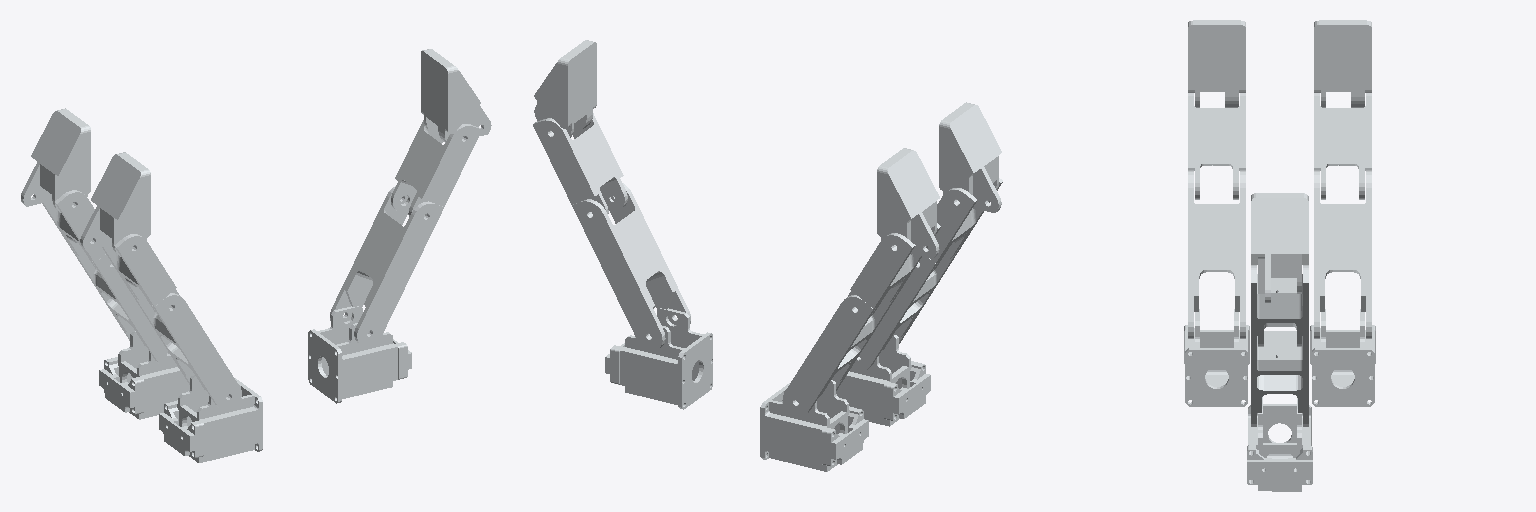
--- Render facts (derived) ---
The picture shows the robot from 3 angles, left to right: view 1: azimuth 30°, elevation 25°; view 2: azimuth 150°, elevation 25°; view 3: azimuth 270°, elevation 25°; orthographic projection.
Model 3fgripper with 16 links and 15 joints (11 continuous, 4 fixed), rooted at world, posed all joints at 0.
Links seen in each view (by area): view 1: m_Link_1, m_base_link, r_base_link, r_Link_1, r_Link_3, l_Link_3, m_Link_2, l_base_link, m_Link_3, l_Link_1, r_Link_2, l_Link_2; view 2: m_Link_1, m_base_link, l_base_link, l_Link_1, m_Link_2, r_Link_3, l_Link_3, r_base_link, m_Link_3, r_Link_1, l_Link_2, r_Link_2; view 3: r_Link_1, l_Link_1, m_Link_3, r_base_link, l_base_link, m_base_link, r_Link_3, l_Link_3, m_Link_1, r_Link_2, l_Link_2, m_Link_2.
Boxes of the visible links, <box> form: m_Link_1: <box>330,186,443,346</box>; m_base_link: <box>308,306,411,403</box>; r_base_link: <box>159,375,262,462</box>; r_Link_1: <box>127,287,241,410</box>; r_Link_3: <box>80,152,150,256</box>; l_Link_3: <box>21,108,90,212</box>; m_Link_2: <box>391,120,481,216</box>; l_base_link: <box>99,331,189,419</box>; m_Link_3: <box>421,49,491,142</box>; l_Link_1: <box>68,244,175,366</box>; r_Link_2: <box>102,234,179,314</box>; l_Link_2: <box>42,190,111,271</box>; m_Link_1: <box>572,183,690,350</box>; m_base_link: <box>605,308,712,409</box>; l_base_link: <box>760,380,868,471</box>; l_Link_1: <box>782,289,900,416</box>; m_Link_2: <box>533,113,627,215</box>; r_Link_3: <box>939,102,1001,212</box>; l_Link_3: <box>877,148,939,258</box>; r_base_link: <box>836,335,930,426</box>; m_Link_3: <box>534,40,596,137</box>; r_Link_1: <box>852,243,963,371</box>; l_Link_2: <box>848,223,940,316</box>; r_Link_2: <box>918,178,1002,271</box>; r_Link_1: <box>1188,170,1245,338</box>; l_Link_1: <box>1314,170,1371,338</box>; m_Link_3: <box>1251,193,1308,302</box>; r_base_link: <box>1184,309,1249,406</box>; l_base_link: <box>1310,309,1375,406</box>; m_base_link: <box>1247,397,1312,491</box>; r_Link_3: <box>1188,20,1245,107</box>; l_Link_3: <box>1314,20,1371,107</box>; m_Link_1: <box>1251,331,1308,426</box>; r_Link_2: <box>1188,93,1245,199</box>; l_Link_2: <box>1314,93,1371,199</box>; m_Link_2: <box>1251,265,1308,346</box>.
Size in the robot's own frame: 0.2148 by 0.079 by 0.1478 metres.
12 mesh visuals loaded from 7 distinct referenced files (4 binary STL); not drawn: 3 (reference not matched to a file when rendering).

The robot description file, URDF, robot "3fgripper":
<?xml version="1.0" ?>
<!-- =================================================================================== -->
<!-- |    This document was autogenerated by xacro from [local-path]/finger/src/gripper/urdf/3fgripper.xacro | -->
<!-- |    EDITING THIS FILE BY HAND IS NOT RECOMMENDED                                 | -->
<!-- =================================================================================== -->
<robot name="3fgripper" xmlns:xacro="http://www.ros.org/wiki/xacro">
  <gazebo>
    <plugin filename="libgazebo_ros_control.so" name="gazebo_ros_control">
      <robotNamespace>/fingertest</robotNamespace>
      <robotSimType>gazebo_ros_control/DefaultRobotHWSim</robotSimType>
      <legacyModeNS>true</legacyModeNS>
    </plugin>
  </gazebo>
  <!-- <gazebo>
  <plugin name="finger_gazebo_ros_bumper_controller" filename="libgazebo_ros_bumper.so">
    <alwaysOn>true</alwaysOn>
    <updateRate>10</updateRate>
    <bumperTopicName>finger_bumper</bumperTopicName>
    <frameName>world</frameName>
  </plugin>
</gazebo> -->
  &gt; 
  
  <gazebo>
    <plugin filename="libgazebo_ros_control.so" name="gazebo_ros_control">
      <robotNamespace>/3fgripper</robotNamespace>
      <robotSimType>gazebo_ros_control/DefaultRobotHWSim</robotSimType>
      <legacyModeNS>true</legacyModeNS>
    </plugin>
  </gazebo>
  <link name="world"/>
  <link name="gripper_base_link">
    <inertial>
      <origin rpy="0 0 0" xyz="-0.0019571 1.9748E-05 0.052522"/>
      <mass value="0.088404"/>
      <inertia ixx="0.1" ixy="1.4704E-08" ixz="-2.4848E-07" iyy="0.1" iyz="3.2395E-09" izz="0.1"/>
    </inertial>
    <visual>
      <origin rpy="0 0 0" xyz="0 0 0"/>
      <geometry>
        <mesh filename="package://gripper_base/meshes/gripper_base_link.STL"/>
      </geometry>
      <material name="">
        <color rgba="0.79216 0.81961 0.93333 1"/>
      </material>
    </visual>
    <collision>
      <origin rpy="0 0 0" xyz="0 0 0"/>
      <geometry>
        <mesh filename="package://gripper_base/meshes/gripper_base_link.STL"/>
      </geometry>
    </collision>
  </link>
  <link name="l_finger_link">
    <inertial>
      <origin rpy="0 0 0" xyz="-0.0053798 -5.6205E-16 0.012857"/>
      <mass value="0.014765"/>
      <inertia ixx="0.1" ixy="-1.2909E-22" ixz="-3.1553E-22" iyy="0.1" iyz="1.1779E-23" izz="0.1"/>
    </inertial>
    <visual>
      <origin rpy="0 0 0" xyz="0 0 0"/>
      <geometry>
        <mesh filename="package://gripper_base/meshes/l_finger_link.STL"/>
      </geometry>
      <material name="">
        <color rgba="0.79216 0.81961 0.93333 1"/>
      </material>
    </visual>
    <collision>
      <origin rpy="0 0 0" xyz="0 0 0"/>
      <geometry>
        <mesh filename="package://gripper_base/meshes/l_finger_link.STL"/>
      </geometry>
    </collision>
  </link>
  <!-- <link name="world"/> -->
  <joint name="fixed123" type="fixed">
    <origin rpy="0 0 0" xyz="0 0 0"/>
    <parent link="world"/>
    <child link="gripper_base_link"/>
    <axis xyz="0 0 0"/>
  </joint>
  <joint name="l_finger_joint" type="continuous">
    <origin rpy="0 0 0" xyz="0 0.026 0.0565"/>
    <parent link="gripper_base_link"/>
    <child link="l_finger_link"/>
    <axis xyz="0 0 -1"/>
  </joint>
  <link name="r_finger_link">
    <inertial>
      <origin rpy="0 0 0" xyz="-0.0053798 -8.1532E-16 0.012857"/>
      <mass value="0.014765"/>
      <inertia ixx="0.1" ixy="1.8121E-21" ixz="-1.2879E-22" iyy="0.1" iyz="1.4405E-22" izz="0.1"/>
    </inertial>
    <visual>
      <origin rpy="0 0 0" xyz="0 0 0"/>
      <geometry>
        <mesh filename="package://gripper_base/meshes/r_finger_link.STL"/>
      </geometry>
      <material name="">
        <color rgba="0.79216 0.81961 0.93333 1"/>
      </material>
    </visual>
    <collision>
      <origin rpy="0 0 0" xyz="0 0 0"/>
      <geometry>
        <mesh filename="package://gripper_base/meshes/r_finger_link.STL"/>
      </geometry>
    </collision>
  </link>
  <joint name="r_finger_joint" type="continuous">
    <origin rpy="0 0 0" xyz="0 -0.026 0.0565"/>
    <parent link="gripper_base_link"/>
    <child link="r_finger_link"/>
    <!-- <axis
      xyz="0 0 -1" /> -->
    <axis xyz="0 0 1"/>
  </joint>
  <transmission name="tran1">
    <type>transmission_interface/SimpleTransmission</type>
    <joint name="l_finger_joint">
      <hardwareInterface>hardware_interface/EffortJointInterface</hardwareInterface>
    </joint>
    <actuator name="motor1">
      <hardwareInterface>hardware_interface/EffortJointInterface</hardwareInterface>
      <mechanicalReduction>1</mechanicalReduction>
    </actuator>
  </transmission>
  <transmission name="tran2">
    <type>transmission_interface/SimpleTransmission</type>
    <joint name="r_finger_joint">
      <hardwareInterface>hardware_interface/EffortJointInterface</hardwareInterface>
    </joint>
    <actuator name="motor2">
      <hardwareInterface>hardware_interface/EffortJointInterface</hardwareInterface>
      <mechanicalReduction>1</mechanicalReduction>
    </actuator>
  </transmission>
  <gazebo reference="gripper_base_link">
    <material>Gazebo/Gray</material>
    <mu1 value="0.2"/>
    <mu2 value="0.2"/>
    <selfCollide>false</selfCollide>
  </gazebo>
  <gazebo reference="l_finger_link">
    <material>Gazebo/Gray</material>
    <mu1 value="0.2"/>
    <mu2 value="0.2"/>
    <selfCollide>false</selfCollide>
  </gazebo>
  <gazebo reference="r_finger_link">
    <material>Gazebo/Gray</material>
    <mu1 value="0.2"/>
    <mu2 value="0.2"/>
    <selfCollide>false</selfCollide>
  </gazebo>
  <link name="r_base_link">
    <inertial>
      <origin rpy="0 0 0" xyz="-0.01 0.00 0.04"/>
      <mass value="0.027"/>
      <inertia ixx="0" ixy="0" ixz="0" iyy="0" iyz="0" izz="20"/>
    </inertial>
    <visual>
      <origin rpy="0 0 0" xyz="0 0 0"/>
      <geometry>
        <mesh filename="package://fingertest/meshes/base_link.STL"/>
      </geometry>
      <material name="">
        <color rgba="0.898039215686275 0.917647058823529 0.929411764705882 1"/>
      </material>
    </visual>
    <collision>
      <origin rpy="0 0 0" xyz="0 0 0"/>
      <geometry>
        <mesh filename="package://fingertest/meshes/base_link.STL"/>
      </geometry>
    </collision>
  </link>
  <link name="r_Link_1">
    <inertial>
      <origin rpy="0 0 0" xyz="0 -0.01 0.02"/>
      <mass value="0.02"/>
      <inertia ixx="0" ixy="0" ixz="0" iyy="0" iyz="0" izz="0"/>
    </inertial>
    <visual>
      <origin rpy="0 0 0" xyz="0 0 0"/>
      <geometry>
        <mesh filename="package://fingertest/meshes/Link_1.STL"/>
      </geometry>
      <material name="">
        <color rgba="0.898039215686275 0.917647058823529 0.929411764705882 1"/>
      </material>
    </visual>
    <collision>
      <origin rpy="0 0 0" xyz="0 0 0"/>
      <geometry>
        <mesh filename="package://fingertest/meshes/Link_1.STL"/>
      </geometry>
    </collision>
  </link>
  <!-- <link name="world"/> -->
  <joint name="r_fixed456" type="fixed">
    <origin rpy="0 0 0" xyz="-0.0264 0 0"/>
    <parent link="r_finger_link"/>
    <child link="r_base_link"/>
    <axis xyz="0 0 0"/>
  </joint>
  <joint name="r_Joint1" type="continuous">
    <origin rpy="0 -0.5235 0" xyz="-0.0165 0 0.0301"/>
    <parent link="r_base_link"/>
    <child link="r_Link_1"/>
    <axis xyz="0 -1 0"/>
  </joint>
  <link name="r_Link_2">
    <inertial>
      <origin rpy="0 0 0" xyz="0 -0.01 0.01"/>
      <mass value="0.0197910341256244"/>
      <inertia ixx="0" ixy="0" ixz="0" iyy="0" iyz="0" izz="0"/>
    </inertial>
    <visual>
      <origin rpy="0 0 0" xyz="0 0 0"/>
      <geometry>
        <mesh filename="package://fingertest/meshes/Link_2.STL"/>
      </geometry>
      <material name="">
        <color rgba="0.898039215686275 0.917647058823529 0.929411764705882 1"/>
      </material>
    </visual>
    <collision>
      <origin rpy="0 0 0" xyz="0 0 0"/>
      <geometry>
        <mesh filename="package://fingertest/meshes/Link_2.STL"/>
      </geometry>
    </collision>
  </link>
  <joint name="r_Joint2" type="continuous">
    <origin rpy="0 0 0" xyz="0 0 0.05715"/>
    <parent link="r_Link_1"/>
    <child link="r_Link_2"/>
    <axis xyz="0 -1 0"/>
  </joint>
  <link name="r_Link_3">
    <inertial>
      <origin rpy="0 0 0" xyz="-0.02 0.01 0.00"/>
      <mass value="0.027"/>
      <inertia ixx="0" ixy="0" ixz="0" iyy="0" iyz="0" izz="0"/>
    </inertial>
    <visual>
      <origin rpy="0 0 0" xyz="0 0 0"/>
      <geometry>
        <mesh filename="package://fingertest/meshes/Link_3.STL"/>
      </geometry>
      <material name="">
        <color rgba="0.898039215686275 0.917647058823529 0.929411764705882 1"/>
      </material>
    </visual>
    <collision name="bumper_r_collision">
      <origin rpy="0 0 0" xyz="0 0 0"/>
      <geometry name="bumper_r_collision">
        <mesh filename="package://fingertest/meshes/Link_3.STL"/>
      </geometry>
    </collision>
  </link>
  <joint name="r_Joint3" type="continuous">
    <origin rpy="0 0.5235 0" xyz="0 0 0.0381"/>
    <parent link="r_Link_2"/>
    <child link="r_Link_3"/>
    <axis xyz="0 -1 0"/>
  </joint>
  <transmission name="r_tran1">
    <type>transmission_interface/SimpleTransmission</type>
    <joint name="r_Joint1">
      <hardwareInterface>hardware_interface/EffortJointInterface</hardwareInterface>
    </joint>
    <actuator name="r_motor1">
      <hardwareInterface>hardware_interface/EffortJointInterface</hardwareInterface>
      <mechanicalReduction>1</mechanicalReduction>
    </actuator>
  </transmission>
  <transmission name="r_tran2">
    <type>transmission_interface/SimpleTransmission</type>
    <joint name="r_Joint2">
      <hardwareInterface>hardware_interface/EffortJointInterface</hardwareInterface>
    </joint>
    <actuator name="r_motor2">
      <hardwareInterface>hardware_interface/EffortJointInterface</hardwareInterface>
      <mechanicalReduction>1</mechanicalReduction>
    </actuator>
  </transmission>
  <transmission name="r_tran3">
    <type>transmission_interface/SimpleTransmission</type>
    <joint name="r_Joint3">
      <hardwareInterface>hardware_interface/EffortJointInterface</hardwareInterface>
    </joint>
    <actuator name="r_motor3">
      <hardwareInterface>hardware_interface/EffortJointInterface</hardwareInterface>
      <mechanicalReduction>1</mechanicalReduction>
    </actuator>
  </transmission>
  <gazebo reference="r_base_link">
    <material>Gazebo/White</material>
    <mu1 value="0.2"/>
    <mu2 value="0.2"/>
    <selfCollide>true</selfCollide>
  </gazebo>
  <gazebo reference="r_Link_1">
    <material>Gazebo/White</material>
    <mu1 value="0.2"/>
    <mu2 value="0.2"/>
    <selfCollide>true</selfCollide>
  </gazebo>
  <gazebo reference="r_Link_2">
    <material>Gazebo/White</material>
    <mu1 value="0.2"/>
    <mu2 value="0.2"/>
    <selfCollide>false</selfCollide>
  </gazebo>
  <gazebo reference="r_Link_3">
    <material>Gazebo/White</material>
    <mu1 value="0.2"/>
    <mu2 value="0.2"/>
    <selfCollide>true</selfCollide>
    <!-- <sensor name="${side}_Link_3_sensor" type="contact">
            <contact>
                <collision>bumper_${side}_collision_collison</collision>
            </contact>
            <plugin name="gazebo_ros_bumper_controller" filename="libgazebo_ros_bumper.so">
                <alwaysOn>true</alwaysOn>
                <updateRate>10.0</updateRate>
                <bumperTopicName>${side}_bumper_finger</bumperTopicName>
                <frameName>3fgripper</frameName>
            </plugin>
        </sensor> -->
  </gazebo>
  <!-- <gazebo reference="bumper_finger">
        <selfCollide>true</selfCollide>
        <sensor name="bumper_finger_sensor" type="contact">
            <contact>
                <collision>bumper_finger_collision_collison</collision>
            </contact>
            <plugin name="gazebo_ros_bumper_controller" filename="libgazebo_ros_bumper.so">
                <alwaysOn>true</alwaysOn>
                <updateRate>10.0</updateRate>
                <bumperTopicName>bumper_finger</bumperTopicName>
                <frameName>world</frameName>
            </plugin>
        </sensor>

    </gazebo> -->
  <gazebo reference="r_Link_3">
    <sensor name="r_Link_3_sensor" type="contact">
      <visualize>true</visualize>
      <always_on>true</always_on>
      <update_rate>50.0</update_rate>
      <contact>
        <collision>bumper_r_collision_collison</collision>
      </contact>
      <plugin filename="libgazebo_ros_bumper.so" name="gazebo_ros_bumper_controller">
        <alwaysOn>true</alwaysOn>
        <updateRate>10.0</updateRate>
        <bumperTopicName>r_bumper_finger</bumperTopicName>
        <frameName>world</frameName>
      </plugin>
    </sensor>
    <material>Gazebo/Red</material>
    <mu1>0.1</mu1>
    <mu2>0.1</mu2>
    <gravity>true</gravity>
    <selfCollide>false</selfCollide>
  </gazebo>
  <!-- <gazebo reference="bumper_finger">
        <selfCollide>true</selfCollide>
        <sensor name="bumper_finger_sensor" type="contact">
            <contact>
                <collision>bumper_finger_collision_collison</collision>
            </contact>
            <plugin name="gazebo_ros_bumper_controller" filename="libgazebo_ros_bumper.so">
                <alwaysOn>true</alwaysOn>
                <updateRate>10.0</updateRate>
                <bumperTopicName>bumper_finger</bumperTopicName>
                <frameName>world</frameName>
            </plugin>
        </sensor>
    </gazebo> -->
  <link name="l_base_link">
    <inertial>
      <origin rpy="0 0 0" xyz="-0.01 0.00 0.04"/>
      <mass value="0.027"/>
      <inertia ixx="0" ixy="0" ixz="0" iyy="0" iyz="0" izz="20"/>
    </inertial>
    <visual>
      <origin rpy="0 0 0" xyz="0 0 0"/>
      <geometry>
        <mesh filename="package://fingertest/meshes/base_link.STL"/>
      </geometry>
      <material name="">
        <color rgba="0.898039215686275 0.917647058823529 0.929411764705882 1"/>
      </material>
    </visual>
    <collision>
      <origin rpy="0 0 0" xyz="0 0 0"/>
      <geometry>
        <mesh filename="package://fingertest/meshes/base_link.STL"/>
      </geometry>
    </collision>
  </link>
  <link name="l_Link_1">
    <inertial>
      <origin rpy="0 0 0" xyz="0 -0.01 0.02"/>
      <mass value="0.02"/>
      <inertia ixx="0" ixy="0" ixz="0" iyy="0" iyz="0" izz="0"/>
    </inertial>
    <visual>
      <origin rpy="0 0 0" xyz="0 0 0"/>
      <geometry>
        <mesh filename="package://fingertest/meshes/Link_1.STL"/>
      </geometry>
      <material name="">
        <color rgba="0.898039215686275 0.917647058823529 0.929411764705882 1"/>
      </material>
    </visual>
    <collision>
      <origin rpy="0 0 0" xyz="0 0 0"/>
      <geometry>
        <mesh filename="package://fingertest/meshes/Link_1.STL"/>
      </geometry>
    </collision>
  </link>
  <!-- <link name="world"/> -->
  <joint name="l_fixed456" type="fixed">
    <origin rpy="0 0 0" xyz="-0.0264 0 0"/>
    <parent link="l_finger_link"/>
    <child link="l_base_link"/>
    <axis xyz="0 0 0"/>
  </joint>
  <joint name="l_Joint1" type="continuous">
    <origin rpy="0 -0.5235 0" xyz="-0.0165 0 0.0301"/>
    <parent link="l_base_link"/>
    <child link="l_Link_1"/>
    <axis xyz="0 -1 0"/>
  </joint>
  <link name="l_Link_2">
    <inertial>
      <origin rpy="0 0 0" xyz="0 -0.01 0.01"/>
      <mass value="0.0197910341256244"/>
      <inertia ixx="0" ixy="0" ixz="0" iyy="0" iyz="0" izz="0"/>
    </inertial>
    <visual>
      <origin rpy="0 0 0" xyz="0 0 0"/>
      <geometry>
        <mesh filename="package://fingertest/meshes/Link_2.STL"/>
      </geometry>
      <material name="">
        <color rgba="0.898039215686275 0.917647058823529 0.929411764705882 1"/>
      </material>
    </visual>
    <collision>
      <origin rpy="0 0 0" xyz="0 0 0"/>
      <geometry>
        <mesh filename="package://fingertest/meshes/Link_2.STL"/>
      </geometry>
    </collision>
  </link>
  <joint name="l_Joint2" type="continuous">
    <origin rpy="0 0 0" xyz="0 0 0.05715"/>
    <parent link="l_Link_1"/>
    <child link="l_Link_2"/>
    <axis xyz="0 -1 0"/>
  </joint>
  <link name="l_Link_3">
    <inertial>
      <origin rpy="0 0 0" xyz="-0.02 0.01 0.00"/>
      <mass value="0.027"/>
      <inertia ixx="0" ixy="0" ixz="0" iyy="0" iyz="0" izz="0"/>
    </inertial>
    <visual>
      <origin rpy="0 0 0" xyz="0 0 0"/>
      <geometry>
        <mesh filename="package://fingertest/meshes/Link_3.STL"/>
      </geometry>
      <material name="">
        <color rgba="0.898039215686275 0.917647058823529 0.929411764705882 1"/>
      </material>
    </visual>
    <collision name="bumper_l_collision">
      <origin rpy="0 0 0" xyz="0 0 0"/>
      <geometry name="bumper_l_collision">
        <mesh filename="package://fingertest/meshes/Link_3.STL"/>
      </geometry>
    </collision>
  </link>
  <joint name="l_Joint3" type="continuous">
    <origin rpy="0 0.5235 0" xyz="0 0 0.0381"/>
    <parent link="l_Link_2"/>
    <child link="l_Link_3"/>
    <axis xyz="0 -1 0"/>
  </joint>
  <transmission name="l_tran1">
    <type>transmission_interface/SimpleTransmission</type>
    <joint name="l_Joint1">
      <hardwareInterface>hardware_interface/EffortJointInterface</hardwareInterface>
    </joint>
    <actuator name="l_motor1">
      <hardwareInterface>hardware_interface/EffortJointInterface</hardwareInterface>
      <mechanicalReduction>1</mechanicalReduction>
    </actuator>
  </transmission>
  <transmission name="l_tran2">
    <type>transmission_interface/SimpleTransmission</type>
    <joint name="l_Joint2">
      <hardwareInterface>hardware_interface/EffortJointInterface</hardwareInterface>
    </joint>
    <actuator name="l_motor2">
      <hardwareInterface>hardware_interface/EffortJointInterface</hardwareInterface>
      <mechanicalReduction>1</mechanicalReduction>
    </actuator>
  </transmission>
  <transmission name="l_tran3">
    <type>transmission_interface/SimpleTransmission</type>
    <joint name="l_Joint3">
      <hardwareInterface>hardware_interface/EffortJointInterface</hardwareInterface>
    </joint>
    <actuator name="l_motor3">
      <hardwareInterface>hardware_interface/EffortJointInterface</hardwareInterface>
      <mechanicalReduction>1</mechanicalReduction>
    </actuator>
  </transmission>
  <gazebo reference="l_base_link">
    <material>Gazebo/White</material>
    <mu1 value="0.2"/>
    <mu2 value="0.2"/>
    <selfCollide>true</selfCollide>
  </gazebo>
  <gazebo reference="l_Link_1">
    <material>Gazebo/White</material>
    <mu1 value="0.2"/>
    <mu2 value="0.2"/>
    <selfCollide>true</selfCollide>
  </gazebo>
  <gazebo reference="l_Link_2">
    <material>Gazebo/White</material>
    <mu1 value="0.2"/>
    <mu2 value="0.2"/>
    <selfCollide>false</selfCollide>
  </gazebo>
  <gazebo reference="l_Link_3">
    <material>Gazebo/White</material>
    <mu1 value="0.2"/>
    <mu2 value="0.2"/>
    <selfCollide>true</selfCollide>
    <!-- <sensor name="${side}_Link_3_sensor" type="contact">
            <contact>
                <collision>bumper_${side}_collision_collison</collision>
            </contact>
            <plugin name="gazebo_ros_bumper_controller" filename="libgazebo_ros_bumper.so">
                <alwaysOn>true</alwaysOn>
                <updateRate>10.0</updateRate>
                <bumperTopicName>${side}_bumper_finger</bumperTopicName>
                <frameName>3fgripper</frameName>
            </plugin>
        </sensor> -->
  </gazebo>
  <!-- <gazebo reference="bumper_finger">
        <selfCollide>true</selfCollide>
        <sensor name="bumper_finger_sensor" type="contact">
            <contact>
                <collision>bumper_finger_collision_collison</collision>
            </contact>
            <plugin name="gazebo_ros_bumper_controller" filename="libgazebo_ros_bumper.so">
                <alwaysOn>true</alwaysOn>
                <updateRate>10.0</updateRate>
                <bumperTopicName>bumper_finger</bumperTopicName>
                <frameName>world</frameName>
            </plugin>
        </sensor>

    </gazebo> -->
  <gazebo reference="l_Link_3">
    <sensor name="l_Link_3_sensor" type="contact">
      <visualize>true</visualize>
      <always_on>true</always_on>
      <update_rate>50.0</update_rate>
      <contact>
        <collision>bumper_l_collision_collison</collision>
      </contact>
      <plugin filename="libgazebo_ros_bumper.so" name="gazebo_ros_bumper_controller">
        <alwaysOn>true</alwaysOn>
        <updateRate>10.0</updateRate>
        <bumperTopicName>l_bumper_finger</bumperTopicName>
        <frameName>world</frameName>
      </plugin>
    </sensor>
    <material>Gazebo/Red</material>
    <mu1>0.1</mu1>
    <mu2>0.1</mu2>
    <gravity>true</gravity>
    <selfCollide>false</selfCollide>
  </gazebo>
  <!-- <gazebo reference="bumper_finger">
        <selfCollide>true</selfCollide>
        <sensor name="bumper_finger_sensor" type="contact">
            <contact>
                <collision>bumper_finger_collision_collison</collision>
            </contact>
            <plugin name="gazebo_ros_bumper_controller" filename="libgazebo_ros_bumper.so">
                <alwaysOn>true</alwaysOn>
                <updateRate>10.0</updateRate>
                <bumperTopicName>bumper_finger</bumperTopicName>
                <frameName>world</frameName>
            </plugin>
        </sensor>
    </gazebo> -->
  <link name="m_base_link">
    <inertial>
      <origin rpy="0 0 0" xyz="-0.01 0.00 0.04"/>
      <mass value="0.027"/>
      <inertia ixx="0" ixy="0" ixz="0" iyy="0" iyz="0" izz="20"/>
    </inertial>
    <visual>
      <origin rpy="0 0 0" xyz="0 0 0"/>
      <geometry>
        <mesh filename="package://fingertest/meshes/base_link.STL"/>
      </geometry>
      <material name="">
        <color rgba="0.898039215686275 0.917647058823529 0.929411764705882 1"/>
      </material>
    </visual>
    <collision>
      <origin rpy="0 0 0" xyz="0 0 0"/>
      <geometry>
        <mesh filename="package://fingertest/meshes/base_link.STL"/>
      </geometry>
    </collision>
  </link>
  <link name="m_Link_1">
    <inertial>
      <origin rpy="0 0 0" xyz="0 -0.01 0.02"/>
      <mass value="0.02"/>
      <inertia ixx="0" ixy="0" ixz="0" iyy="0" iyz="0" izz="0"/>
    </inertial>
    <visual>
      <origin rpy="0 0 0" xyz="0 0 0"/>
      <geometry>
        <mesh filename="package://fingertest/meshes/Link_1.STL"/>
      </geometry>
      <material name="">
        <color rgba="0.898039215686275 0.917647058823529 0.929411764705882 1"/>
      </material>
    </visual>
    <collision>
      <origin rpy="0 0 0" xyz="0 0 0"/>
      <geometry>
        <mesh filename="package://fingertest/meshes/Link_1.STL"/>
      </geometry>
    </collision>
  </link>
  <!-- <link name="world"/> -->
  <joint name="m_fixed456" type="fixed">
    <origin rpy="0 0 3.14" xyz="0.0264 0 0.0565"/>
    <parent link="gripper_base_link"/>
    <child link="m_base_link"/>
    <axis xyz="0 0 0"/>
  </joint>
  <joint name="m_Joint1" type="continuous">
    <origin rpy="0 -0.5235 0" xyz="-0.0165 0 0.0301"/>
    <parent link="m_base_link"/>
    <child link="m_Link_1"/>
    <axis xyz="0 -1 0"/>
  </joint>
  <link name="m_Link_2">
    <inertial>
      <origin rpy="0 0 0" xyz="0 -0.01 0.01"/>
      <mass value="0.0197910341256244"/>
      <inertia ixx="0" ixy="0" ixz="0" iyy="0" iyz="0" izz="0"/>
    </inertial>
    <visual>
      <origin rpy="0 0 0" xyz="0 0 0"/>
      <geometry>
        <mesh filename="package://fingertest/meshes/Link_2.STL"/>
      </geometry>
      <material name="">
        <color rgba="0.898039215686275 0.917647058823529 0.929411764705882 1"/>
      </material>
    </visual>
    <collision>
      <origin rpy="0 0 0" xyz="0 0 0"/>
      <geometry>
        <mesh filename="package://fingertest/meshes/Link_2.STL"/>
      </geometry>
    </collision>
  </link>
  <joint name="m_Joint2" type="continuous">
    <origin rpy="0 0 0" xyz="0 0 0.05715"/>
    <parent link="m_Link_1"/>
    <child link="m_Link_2"/>
    <axis xyz="0 -1 0"/>
  </joint>
  <link name="m_Link_3">
    <inertial>
      <origin rpy="0 0 0" xyz="-0.02 0.01 0.00"/>
      <mass value="0.027"/>
      <inertia ixx="0" ixy="0" ixz="0" iyy="0" iyz="0" izz="0"/>
    </inertial>
    <visual>
      <origin rpy="0 0 0" xyz="0 0 0"/>
      <geometry>
        <mesh filename="package://fingertest/meshes/Link_3.STL"/>
      </geometry>
      <material name="">
        <color rgba="0.898039215686275 0.917647058823529 0.929411764705882 1"/>
      </material>
    </visual>
    <collision name="bumper_m_collision">
      <origin rpy="0 0 0" xyz="0 0 0"/>
      <geometry name="bumper_m_collision">
        <mesh filename="package://fingertest/meshes/Link_3.STL"/>
      </geometry>
    </collision>
  </link>
  <joint name="m_Joint3" type="continuous">
    <origin rpy="0 0.5235 0" xyz="0 0 0.0381"/>
    <parent link="m_Link_2"/>
    <child link="m_Link_3"/>
    <axis xyz="0 -1 0"/>
  </joint>
  <transmission name="m_tran1">
    <type>transmission_interface/SimpleTransmission</type>
    <joint name="m_Joint1">
      <hardwareInterface>hardware_interface/EffortJointInterface</hardwareInterface>
    </joint>
    <actuator name="m_motor1">
      <hardwareInterface>hardware_interface/EffortJointInterface</hardwareInterface>
      <mechanicalReduction>1</mechanicalReduction>
    </actuator>
  </transmission>
  <transmission name="m_tran2">
    <type>transmission_interface/SimpleTransmission</type>
    <joint name="m_Joint2">
      <hardwareInterface>hardware_interface/EffortJointInterface</hardwareInterface>
    </joint>
    <actuator name="m_motor2">
      <hardwareInterface>hardware_interface/EffortJointInterface</hardwareInterface>
      <mechanicalReduction>1</mechanicalReduction>
    </actuator>
  </transmission>
  <transmission name="m_tran3">
    <type>transmission_interface/SimpleTransmission</type>
    <joint name="m_Joint3">
      <hardwareInterface>hardware_interface/EffortJointInterface</hardwareInterface>
    </joint>
    <actuator name="m_motor3">
      <hardwareInterface>hardware_interface/EffortJointInterface</hardwareInterface>
      <mechanicalReduction>1</mechanicalReduction>
    </actuator>
  </transmission>
  <gazebo reference="m_base_link">
    <material>Gazebo/White</material>
    <mu1 value="0.2"/>
    <mu2 value="0.2"/>
    <selfCollide>true</selfCollide>
  </gazebo>
  <gazebo reference="m_Link_1">
    <material>Gazebo/White</material>
    <mu1 value="0.2"/>
    <mu2 value="0.2"/>
    <selfCollide>true</selfCollide>
  </gazebo>
  <gazebo reference="m_Link_2">
    <material>Gazebo/White</material>
    <mu1 value="0.2"/>
    <mu2 value="0.2"/>
    <selfCollide>false</selfCollide>
  </gazebo>
  <gazebo reference="m_Link_3">
    <material>Gazebo/White</material>
    <mu1 value="0.2"/>
    <mu2 value="0.2"/>
    <selfCollide>true</selfCollide>
    <!-- <sensor name="${side}_Link_3_sensor" type="contact">
            <contact>
                <collision>bumper_${side}_collision_collison</collision>
            </contact>
            <plugin name="gazebo_ros_bumper_controller" filename="libgazebo_ros_bumper.so">
                <alwaysOn>true</alwaysOn>
                <updateRate>10.0</updateRate>
                <bumperTopicName>${side}_bumper_finger</bumperTopicName>
                <frameName>3fgripper</frameName>
            </plugin>
        </sensor> -->
  </gazebo>
  <!-- <gazebo reference="bumper_finger">
        <selfCollide>true</selfCollide>
        <sensor name="bumper_finger_sensor" type="contact">
            <contact>
                <collision>bumper_finger_collision_collison</collision>
            </contact>
            <plugin name="gazebo_ros_bumper_controller" filename="libgazebo_ros_bumper.so">
                <alwaysOn>true</alwaysOn>
                <updateRate>10.0</updateRate>
                <bumperTopicName>bumper_finger</bumperTopicName>
                <frameName>world</frameName>
            </plugin>
        </sensor>

    </gazebo> -->
  <gazebo reference="m_Link_3">
    <sensor name="m_Link_3_sensor" type="contact">
      <visualize>true</visualize>
      <always_on>true</always_on>
      <update_rate>50.0</update_rate>
      <contact>
        <collision>bumper_m_collision_collison</collision>
      </contact>
      <plugin filename="libgazebo_ros_bumper.so" name="gazebo_ros_bumper_controller">
        <alwaysOn>true</alwaysOn>
        <updateRate>10.0</updateRate>
        <bumperTopicName>m_bumper_finger</bumperTopicName>
        <frameName>world</frameName>
      </plugin>
    </sensor>
    <material>Gazebo/Red</material>
    <mu1>0.1</mu1>
    <mu2>0.1</mu2>
    <gravity>true</gravity>
    <selfCollide>false</selfCollide>
  </gazebo>
  <!-- <gazebo reference="bumper_finger">
        <selfCollide>true</selfCollide>
        <sensor name="bumper_finger_sensor" type="contact">
            <contact>
                <collision>bumper_finger_collision_collison</collision>
            </contact>
            <plugin name="gazebo_ros_bumper_controller" filename="libgazebo_ros_bumper.so">
                <alwaysOn>true</alwaysOn>
                <updateRate>10.0</updateRate>
                <bumperTopicName>bumper_finger</bumperTopicName>
                <frameName>world</frameName>
            </plugin>
        </sensor>
    </gazebo> -->
</robot>
